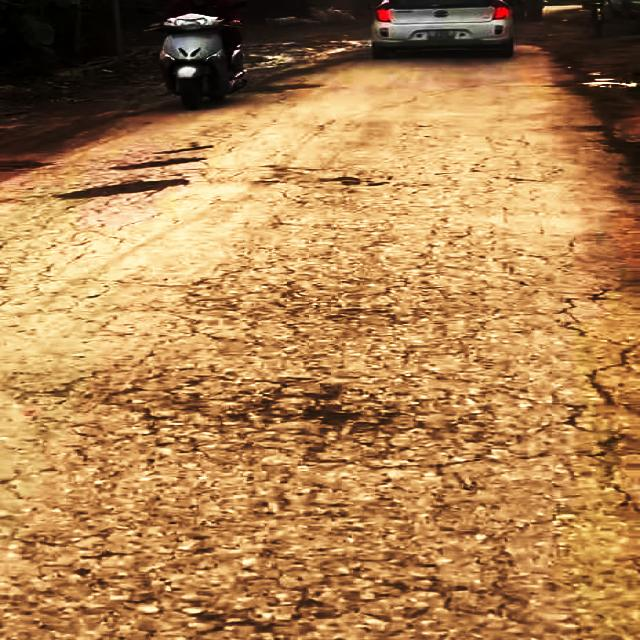pothole: (57, 174, 193, 198)
